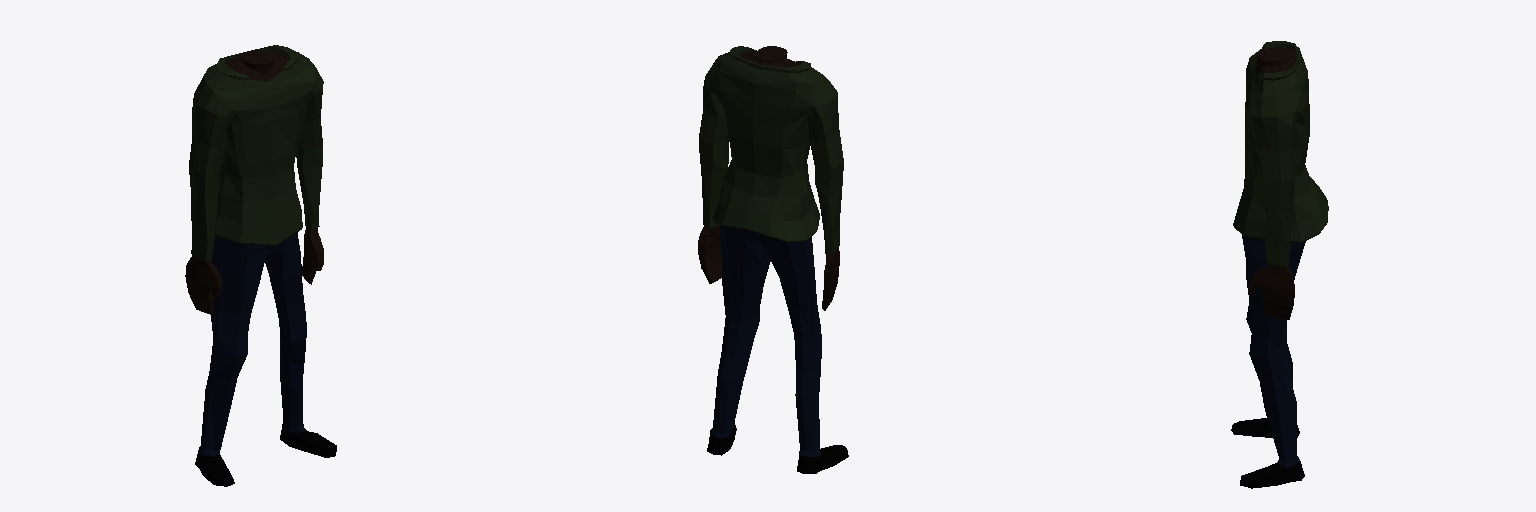
Rendered from postac.obj.
3 views of the same model, side by side, from view 1: azimuth 30°, elevation 25°; view 2: azimuth 150°, elevation 25°; view 3: azimuth 270°, elevation 25° (orthographic).
Visible parts, largest first — view 1: BaseHuman_Cylinder.001; view 2: BaseHuman_Cylinder.001; view 3: BaseHuman_Cylinder.001.
Boxes of the visible parts, x1,y1,x2,y2 form: BaseHuman_Cylinder.001: [185, 45, 336, 486]; BaseHuman_Cylinder.001: [698, 46, 848, 473]; BaseHuman_Cylinder.001: [1231, 41, 1328, 488].
Size of the model in its own units: 1.42 by 4.08 by 0.8973.